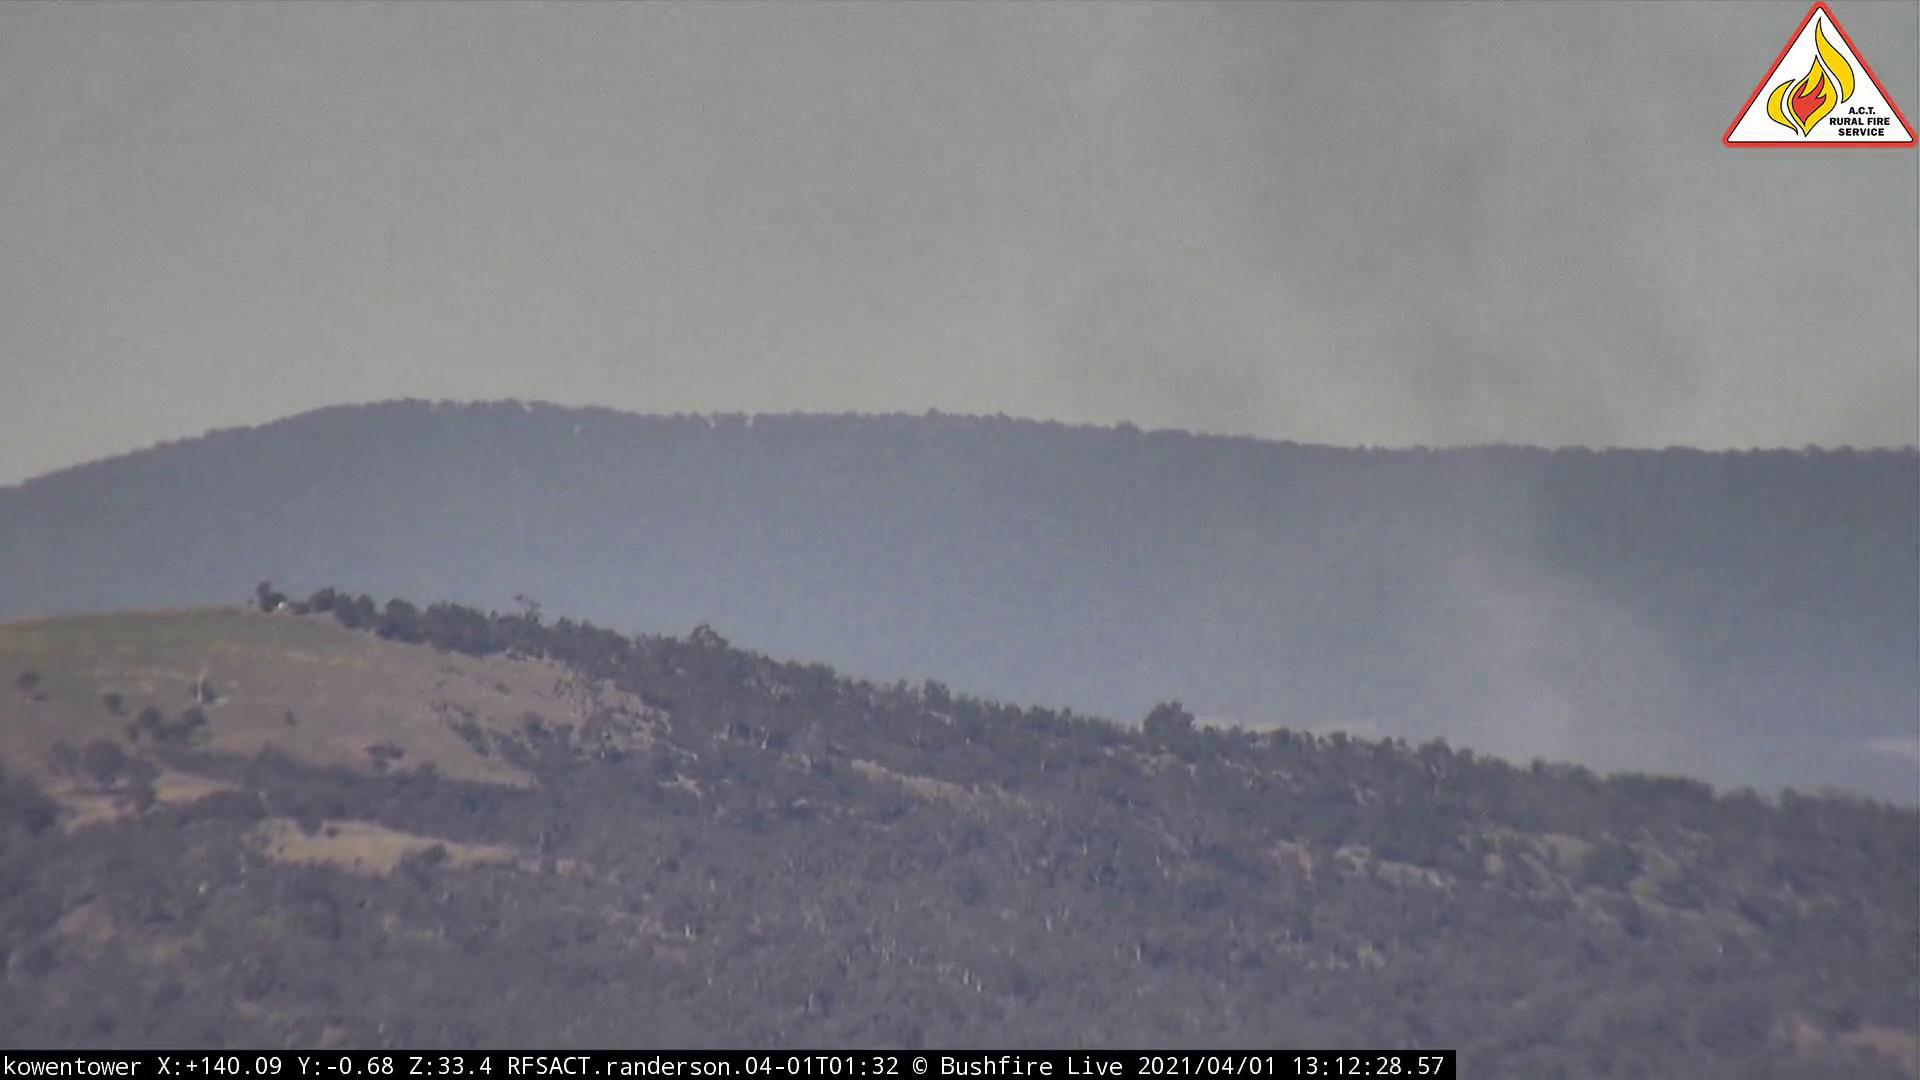instance_salient_object: (956, 3, 1717, 798)
